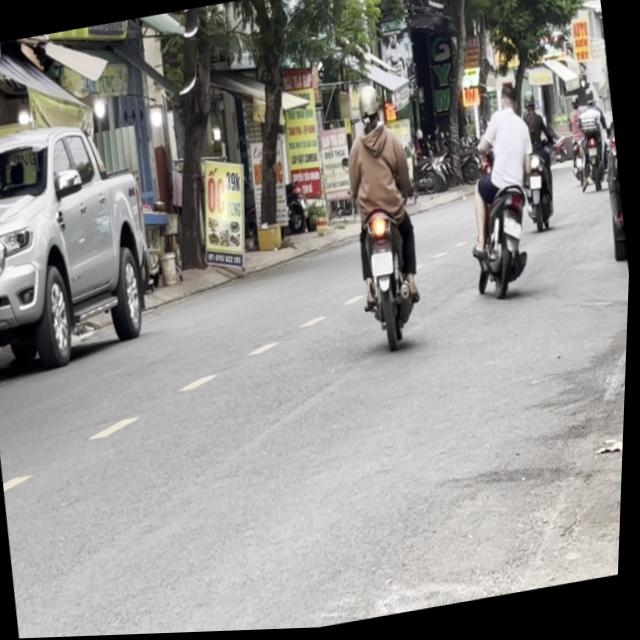helmet: (353, 84, 384, 134)
licenseplate: (328, 78, 439, 355), (446, 66, 552, 305)
motorcyclist: (495, 78, 520, 117)
nohelmet: (371, 252, 395, 277), (502, 217, 523, 239)
